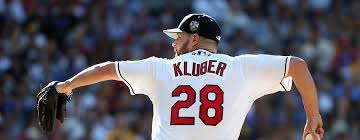baseball: (304, 130, 323, 140)
baseball player: (35, 13, 325, 140)
